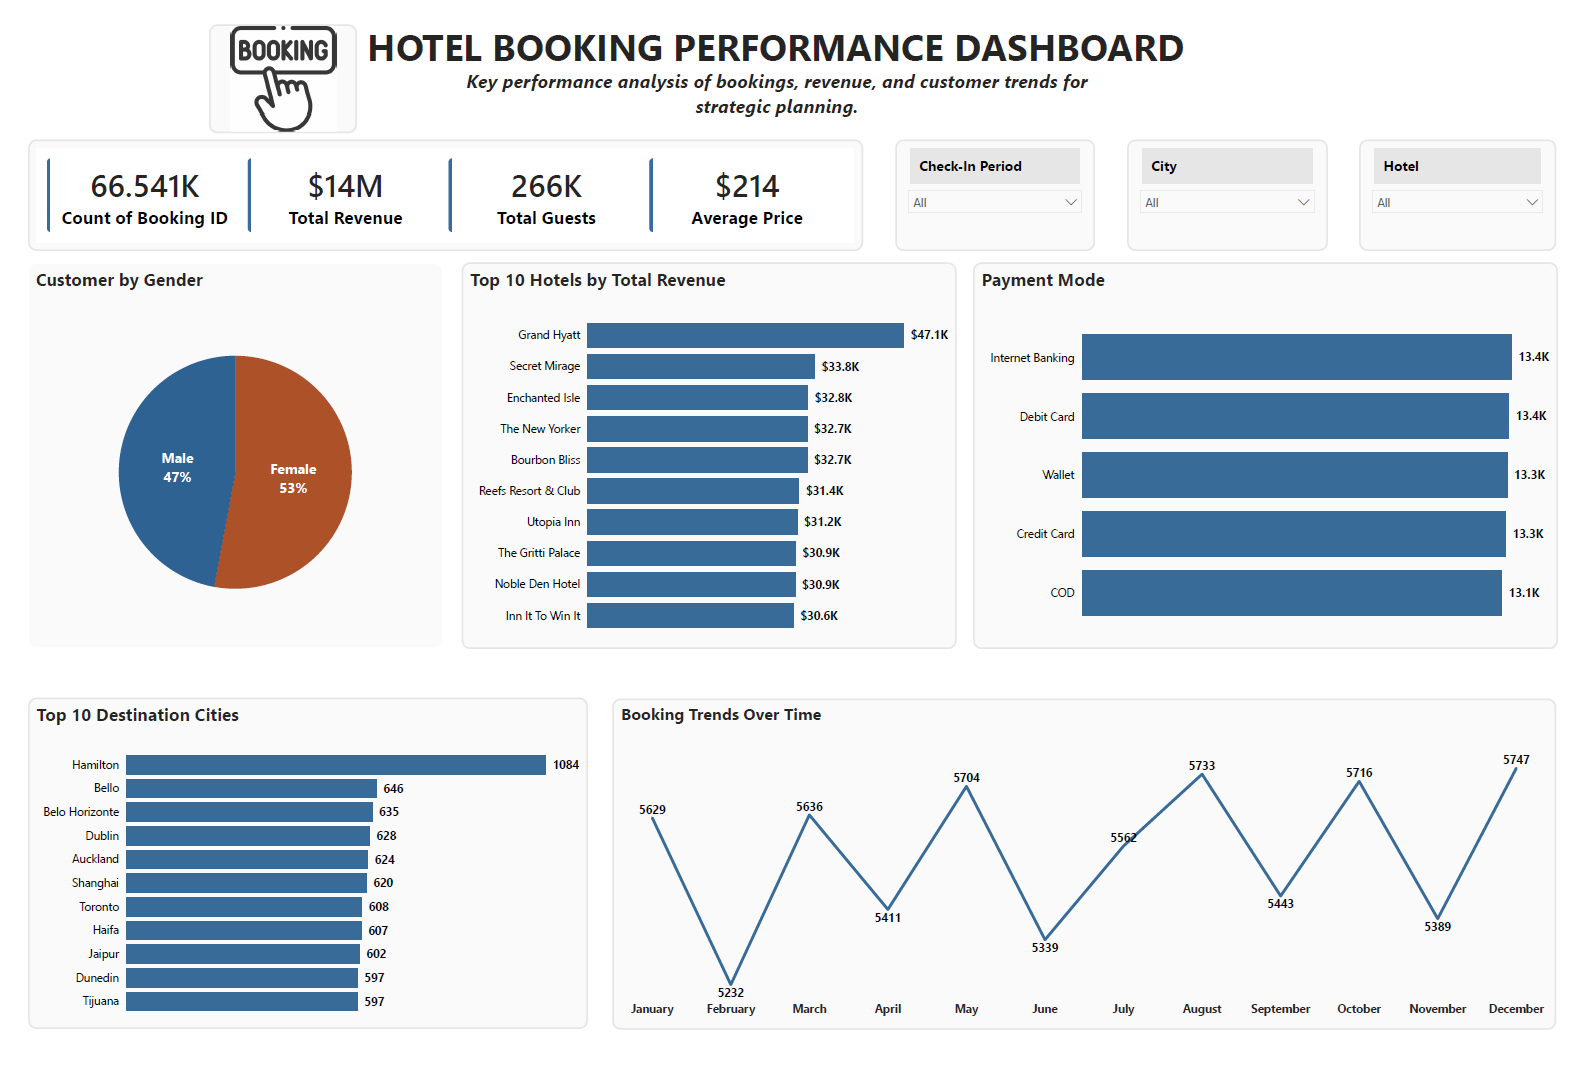

What the dashboard file says about the page in this screenshot:
{"tool":"powerbi","page":{"name":"PERFORMANCE DASHBOARD","canvas":[1800,1200],"ordinal":0},"visuals":[{"type":"textbox","box":[390.2,2.4,987.8,80.5],"z":0},{"type":"cardVisual","fields":{"Data":["CountNonNull(Sheet1.Booking ID)","Sheet1.Total Revenue","Sheet1.Total Guests","Sheet1.Average Price"]},"box":[20.3,144.1,964.4,128.8],"z":1000},{"type":"barChart","title":"Top 10 Hotels by Total Revenue","fields":{"Y":["Sheet1.Total Revenue"],"Category":["Sheet1.Hotel Name"]},"box":[521.4,285.7,571.4,447.6],"z":2000},{"type":"pieChart","title":"Customer by Gender","fields":{"Category":["Sheet1.Gender"],"Y":["CountNonNull(Sheet1.Booking ID)"]},"box":[19,285.7,481,447.6],"z":3000},{"type":"clusteredBarChart","title":"Payment Mode","fields":{"Y":["CountNonNull(Sheet1.Booking ID)"],"Category":["Sheet1.Payment Mode"]},"box":[1111.9,285.7,676.2,447.6],"z":4000},{"type":"clusteredBarChart","title":"Top 10 Destination Cities","fields":{"Y":["CountNonNull(Sheet1.Booking ID)"],"Category":["Sheet1.Destination City"]},"box":[19.6,789.1,647.8,382.6],"z":5000},{"type":"lineChart","title":"Booking Trends Over Time","fields":{"Category":["Sheet1.Date of Booking.Variation.Date Hierarchy.Year","Sheet1.Date of Booking.Variation.Date Hierarchy.Quarter","Sheet1.Date of Booking.Variation.Date Hierarchy.Month","Sheet1.Date of Booking.Variation.Date Hierarchy.Day"],"Y":["CountNonNull(Sheet1.Booking ID)"]},"box":[694.9,789.8,1091.5,383.1],"z":6000},{"type":"textbox","box":[500,56.9,770.8,72.3],"z":7000},{"type":"slicer","fields":{"Values":["Sheet1.Check-in date"]},"box":[1022,144.1,230.5,128.8],"z":8000},{"type":"slicer","fields":{"Values":["Sheet1.Destination City"]},"box":[1289.8,144.1,232.2,128.8],"z":9000},{"type":"slicer","fields":{"Values":["Sheet1.Hotel Name"]},"box":[1557.6,144.1,228.8,128.8],"z":10000},{"type":"image","box":[228.6,11.4,171.4,125.7],"z":11000}]}

Visuals, with their boxes in screenshot pixels (x1, y1, x2, y2), scaled from the page's 1800x1200 canvas onto the 1582x1065 screenshot:
textbox: left=343, top=2, right=1211, bottom=74
cardVisual - CountNonNull(Sheet1.Booking ID) x Sheet1.Total Revenue: left=18, top=128, right=865, bottom=242
"Top 10 Hotels by Total Revenue" barChart: left=458, top=254, right=960, bottom=651
"Customer by Gender" pieChart: left=17, top=254, right=439, bottom=651
"Payment Mode" clusteredBarChart: left=977, top=254, right=1572, bottom=651
"Top 10 Destination Cities" clusteredBarChart: left=17, top=700, right=587, bottom=1040
"Booking Trends Over Time" lineChart: left=611, top=701, right=1570, bottom=1041
textbox: left=439, top=50, right=1117, bottom=115
slicer - Sheet1.Check-in date: left=898, top=128, right=1101, bottom=242
slicer - Sheet1.Destination City: left=1134, top=128, right=1338, bottom=242
slicer - Sheet1.Hotel Name: left=1369, top=128, right=1570, bottom=242
image: left=201, top=10, right=352, bottom=122
